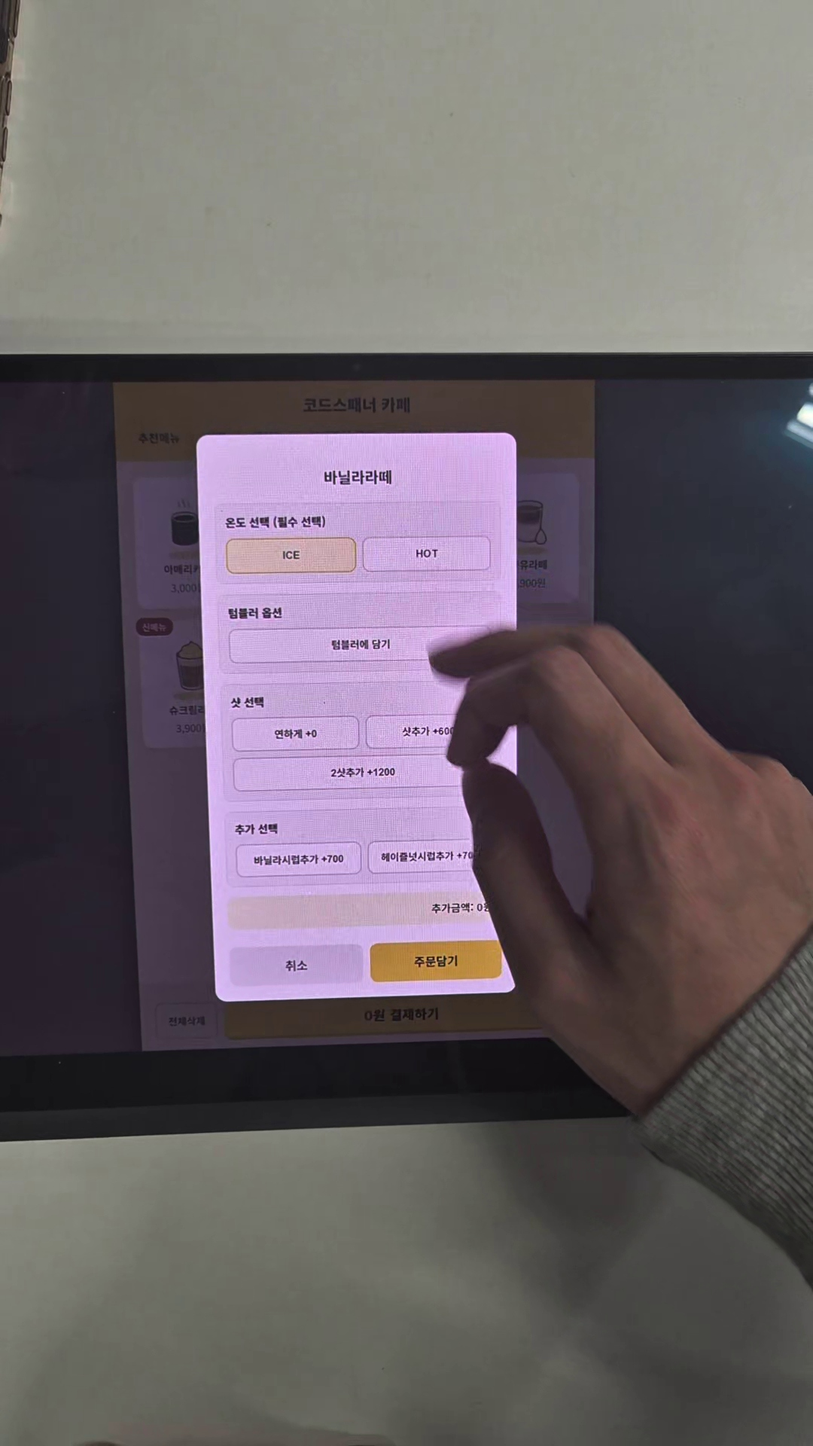action_button: (231, 945, 360, 983), (370, 942, 499, 980)
option_button: (231, 627, 489, 663), (234, 755, 483, 791), (360, 532, 490, 571), (230, 713, 360, 752), (366, 712, 496, 751), (367, 838, 497, 876), (226, 537, 355, 575), (233, 841, 362, 879)
popup_modal: (196, 432, 516, 1005)
